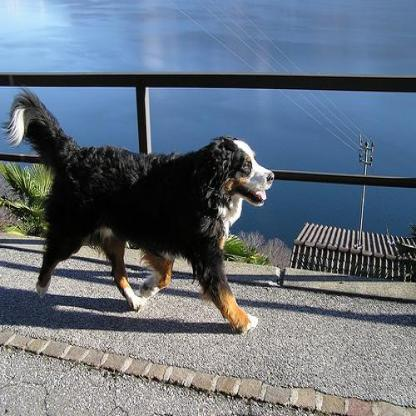Bernese_mountain_dog: (5, 89, 273, 334)
